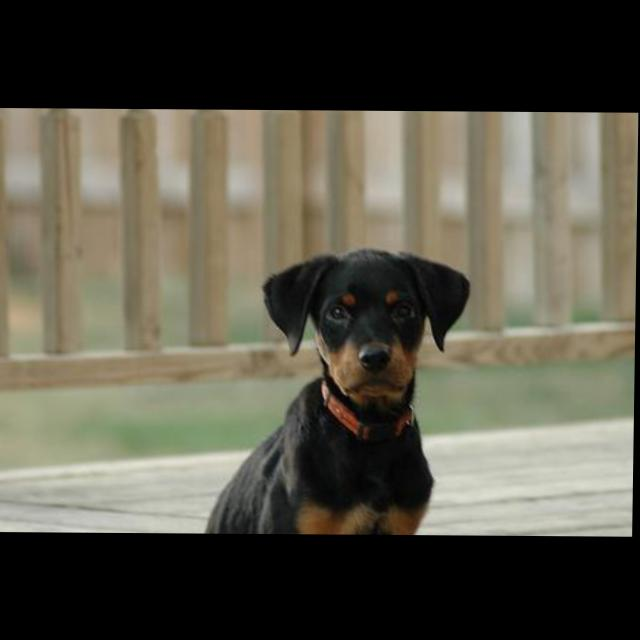other_dog_breed: (194, 245, 475, 537)
